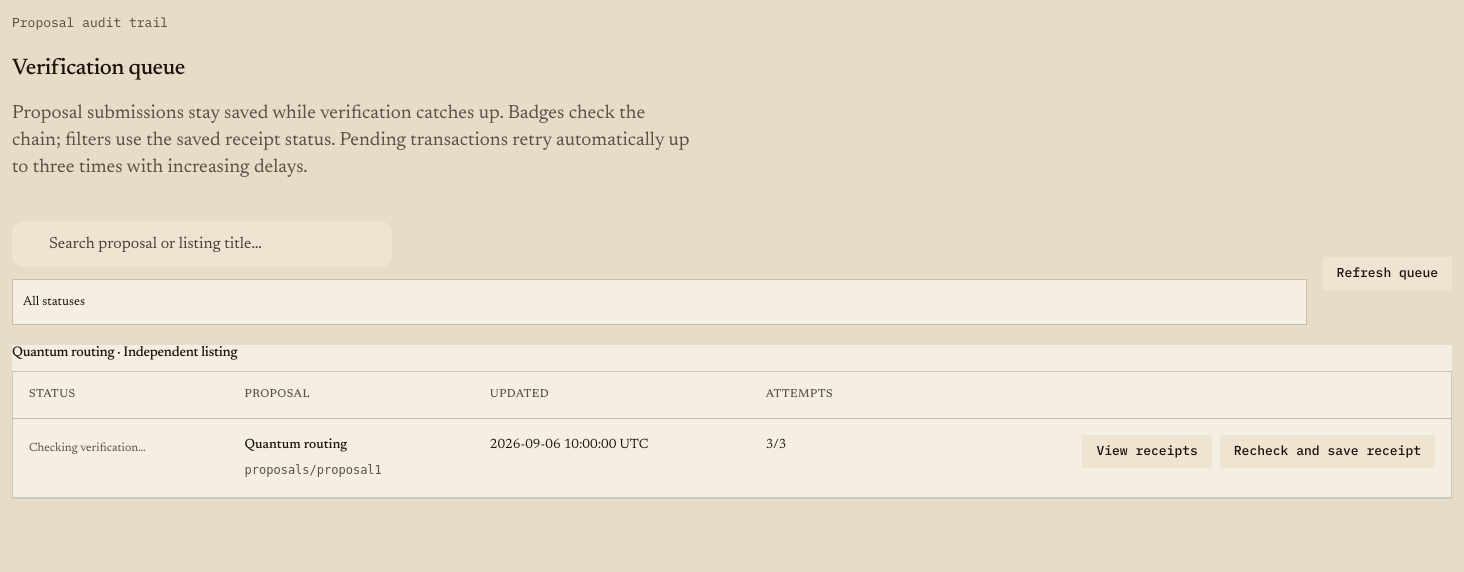
Test case: preserves the queue and explains a failed admin retry
Click the button "Recheck and save receipt" at (1327, 452), box [1220,435,1435,468]
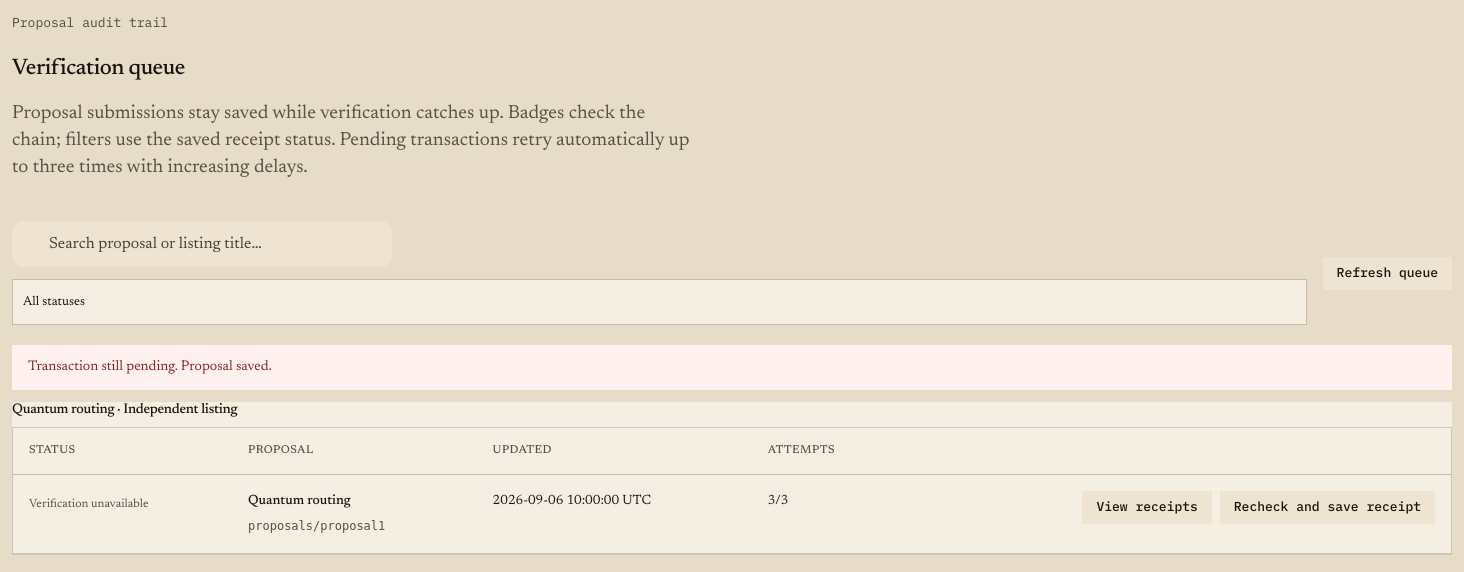
Expected: the text "Quantum routing" is shown, [248,494,351,508]
Expected: the message "Transaction still pending. Proposal saved." is shown, [12,345,1452,390]
